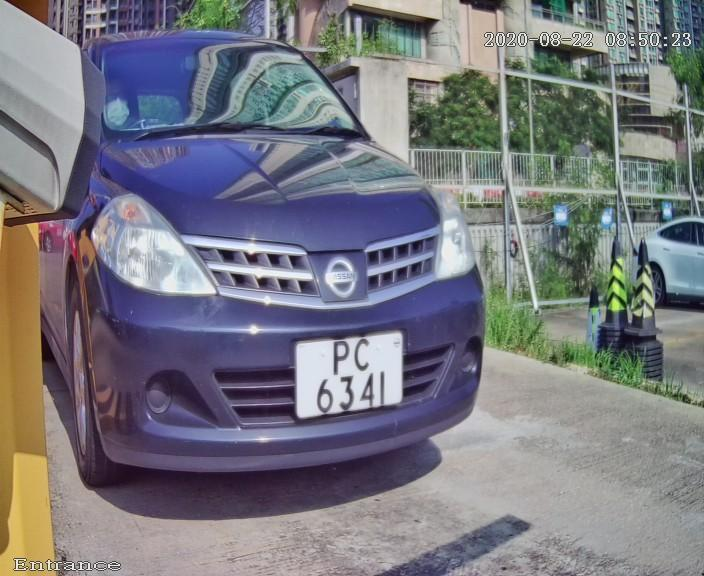Car: (1, 1, 535, 535)
License Plate: (283, 325, 409, 427)
